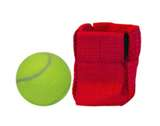tennis ball: (16, 52, 72, 106)
